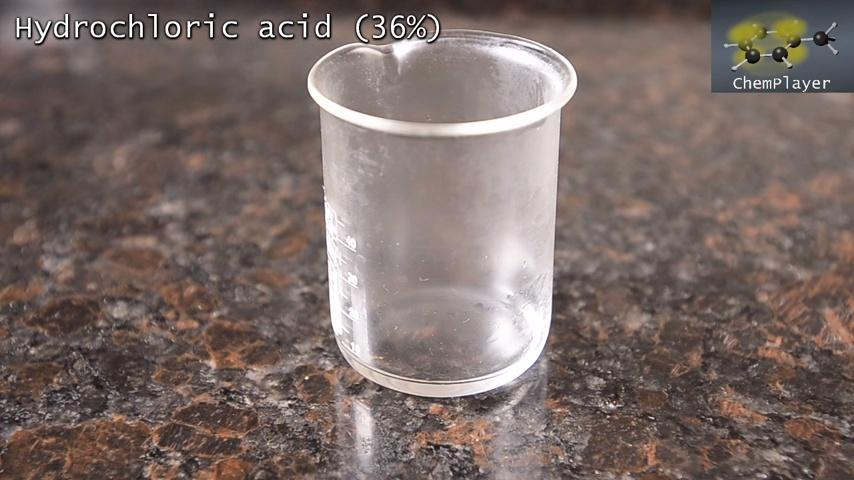Beaker: (300, 19, 590, 414)
